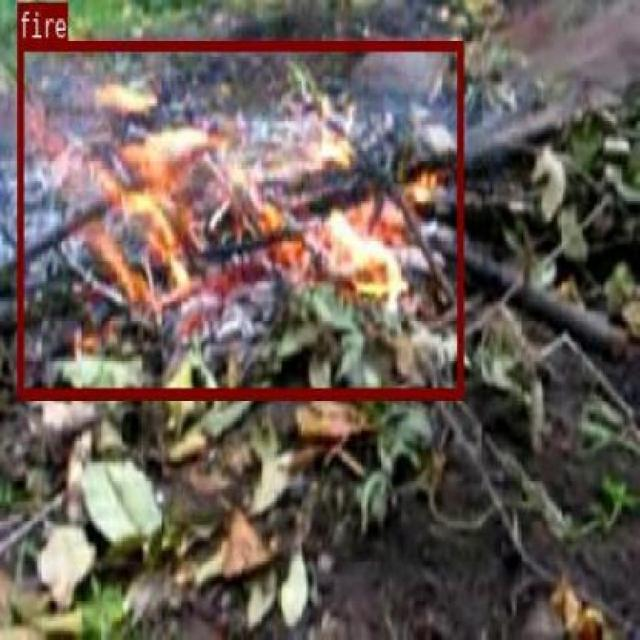Fire: (16, 38, 462, 397)
